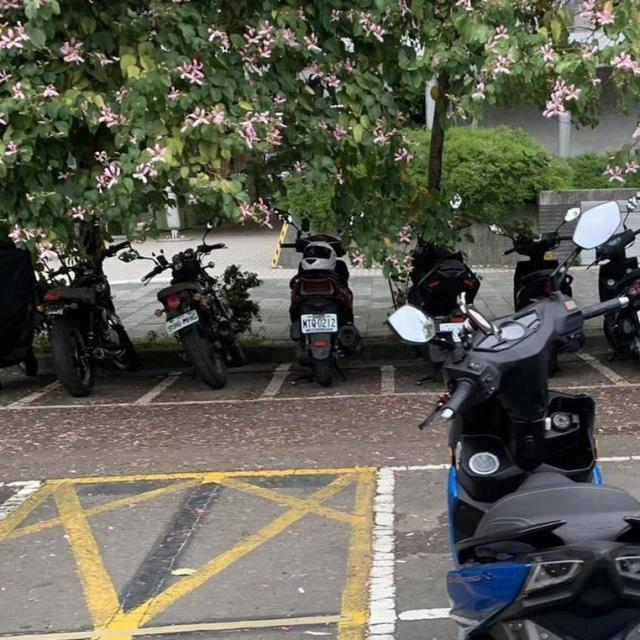W: (295, 305, 345, 337), (159, 305, 207, 337), (627, 300, 640, 332)
